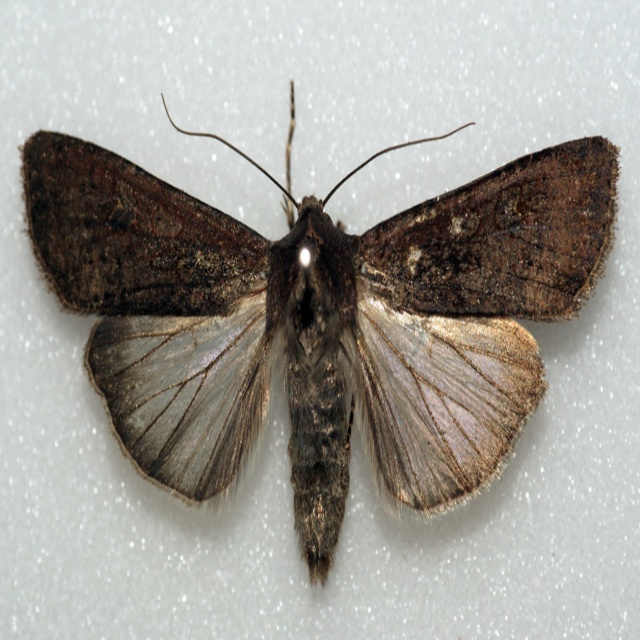Moths and butterflies: (20, 77, 622, 587)
